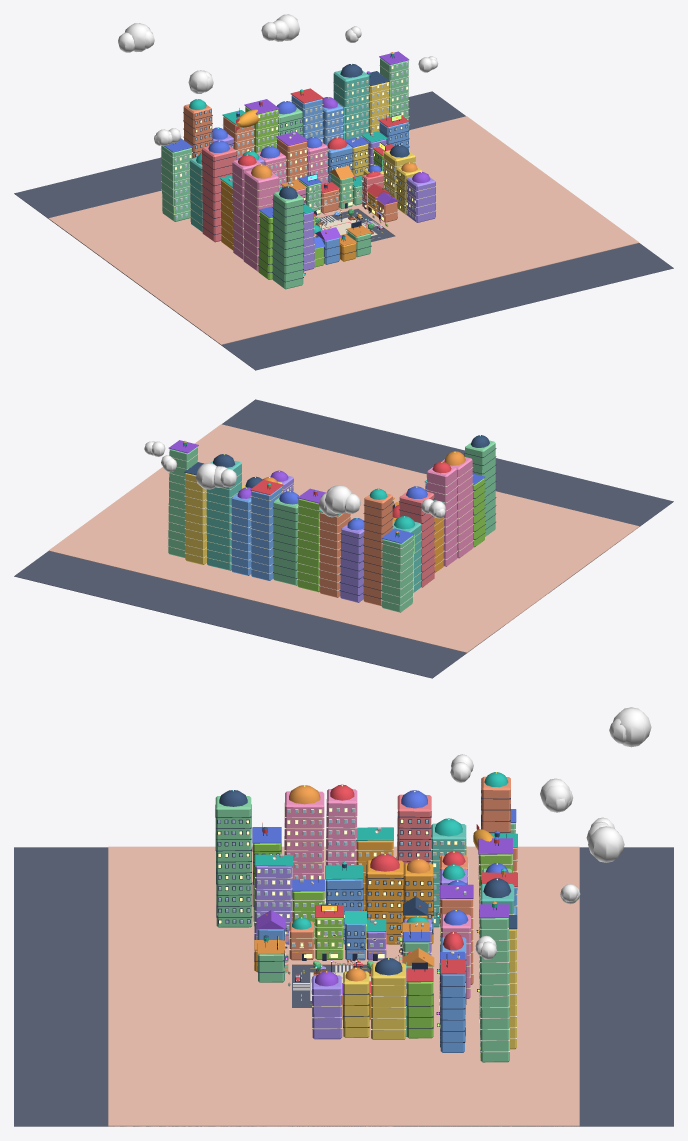
The model's file is city_decor.glb.
3 renders of one model, top to bottom at view 1: azimuth 30°, elevation 25°; view 2: azimuth 150°, elevation 25°; view 3: azimuth 270°, elevation 25°, orthographic. The views are drawn at different scales.
Visible parts, largest first — view 1: city_decor; view 2: city_decor; view 3: city_decor.
Part boxes in pixels (left/top/right/bottom): city_decor: left=14, top=14, right=673, bottom=370; city_decor: left=14, top=399, right=673, bottom=678; city_decor: left=14, top=707, right=673, bottom=1126.
Bounding box in the file's own units: 280 × 98.71 × 280.
